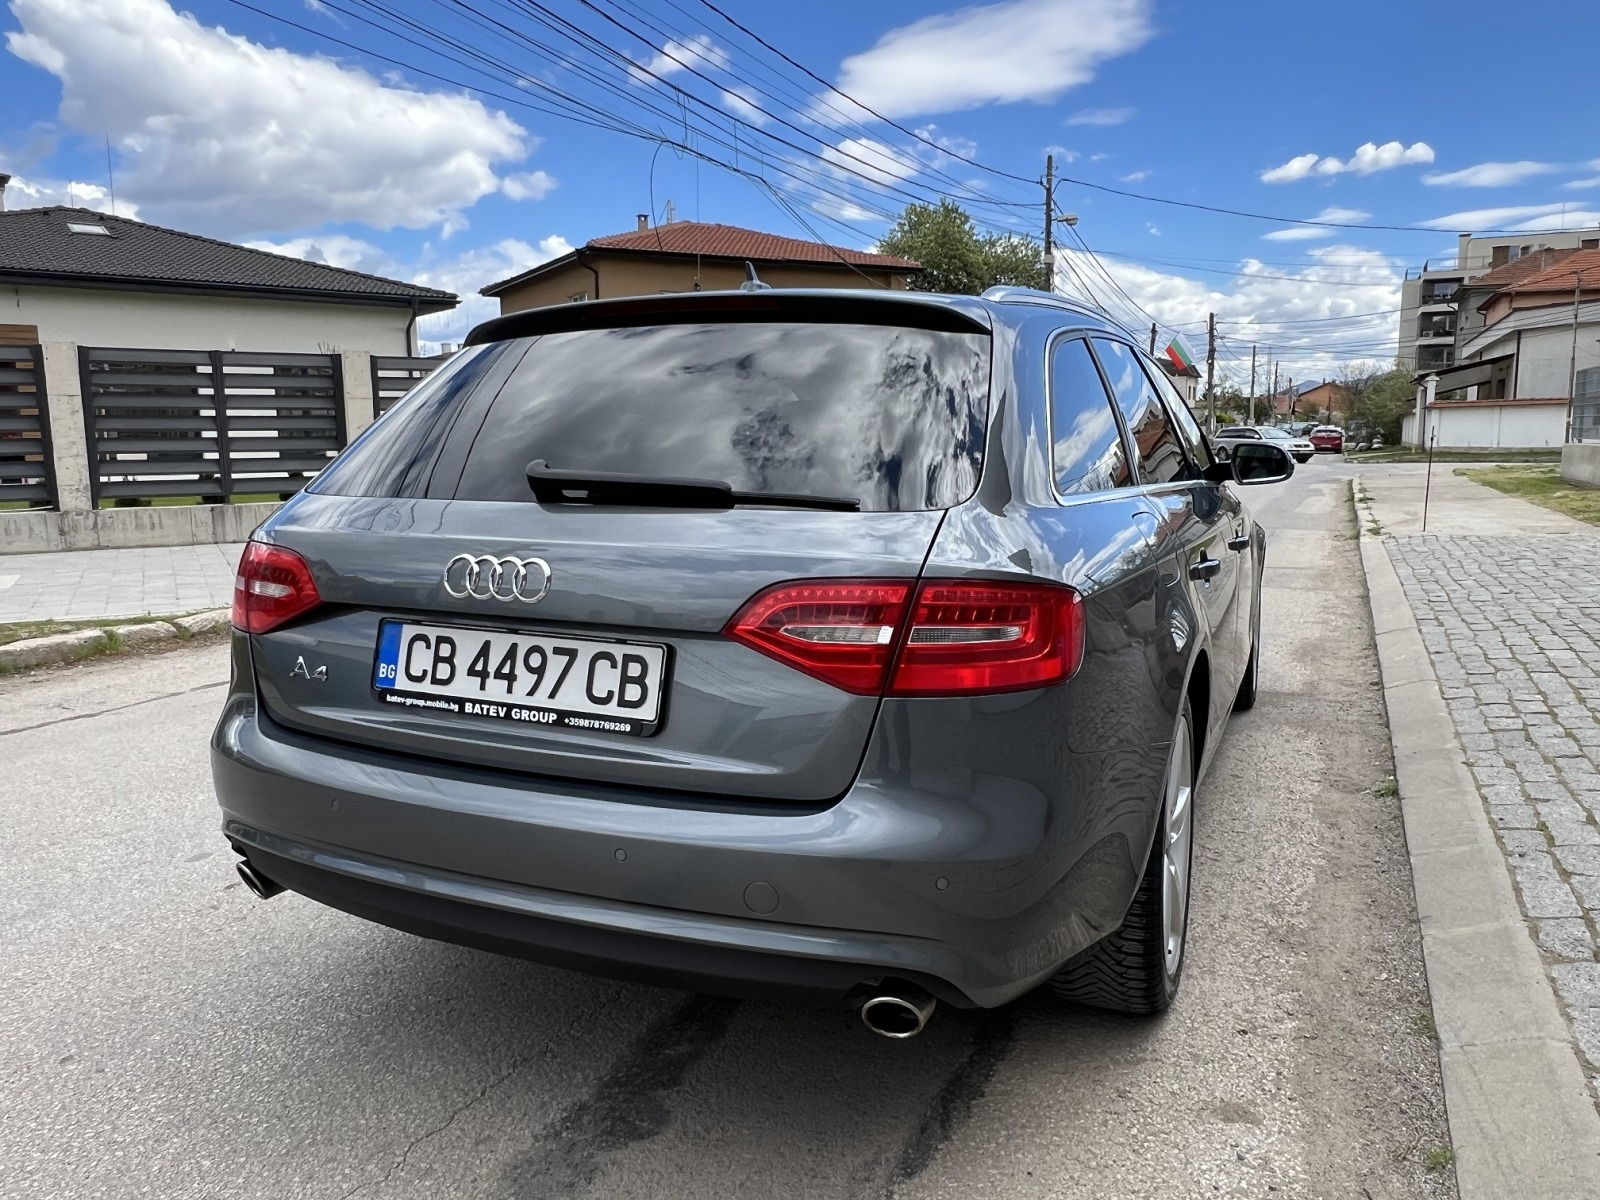registration_plate: (373, 629, 678, 740)
